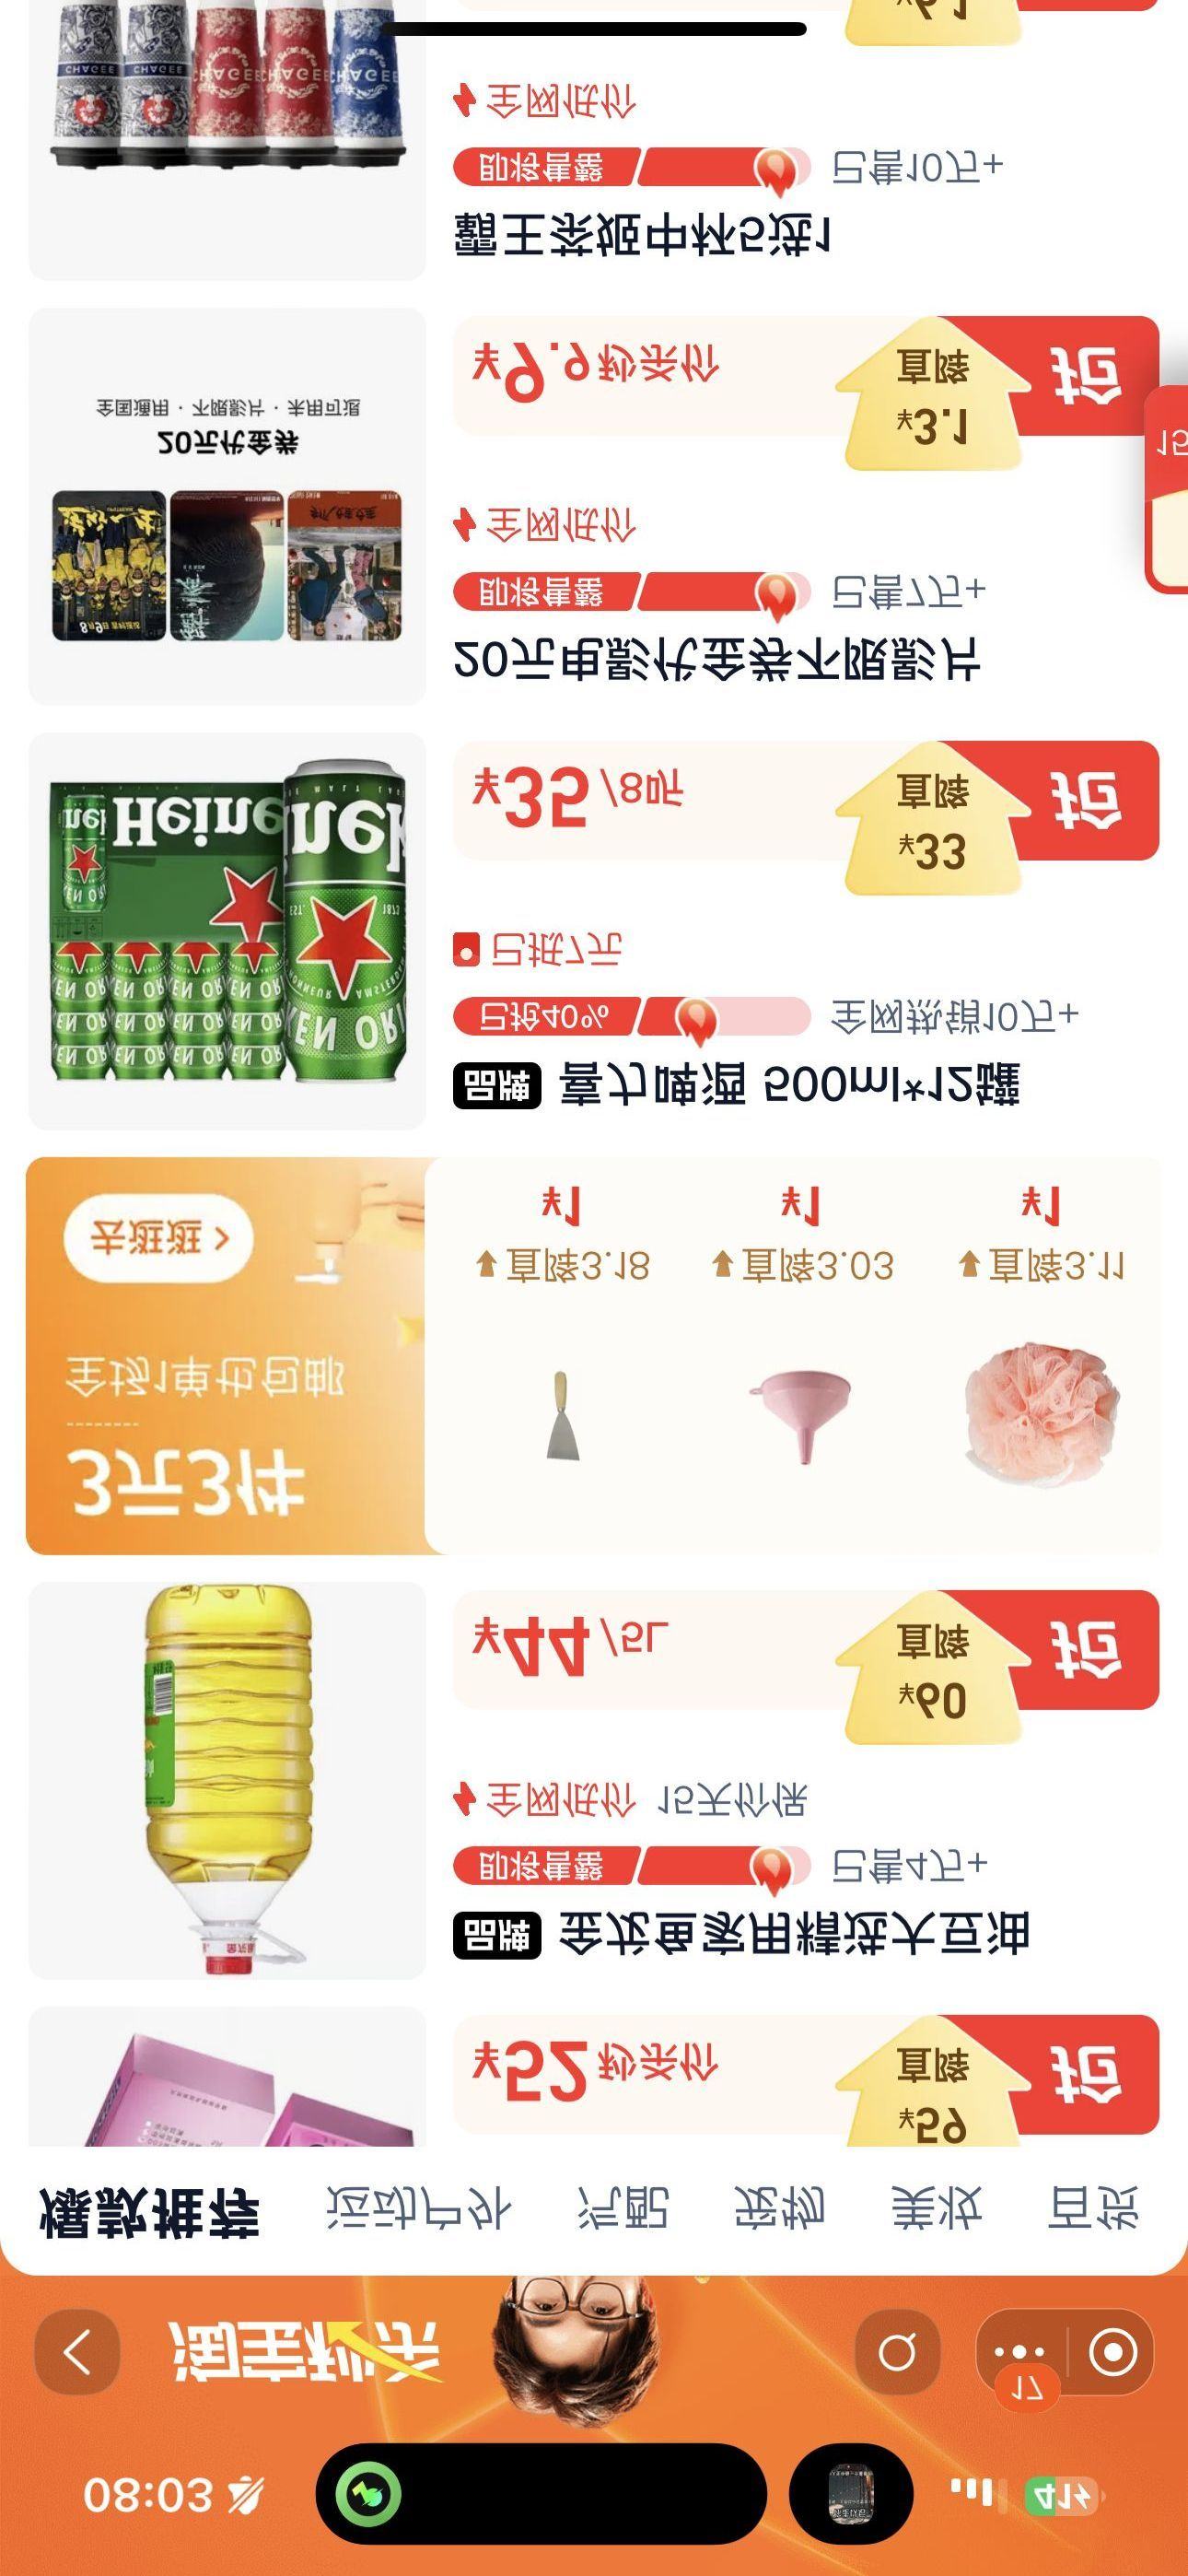banner: (20, 1142, 1175, 1579)
item: (2, 715, 1181, 1130), (13, 297, 1185, 711), (20, 1582, 1185, 1976)
op_bar: (7, 2297, 1185, 2407)
